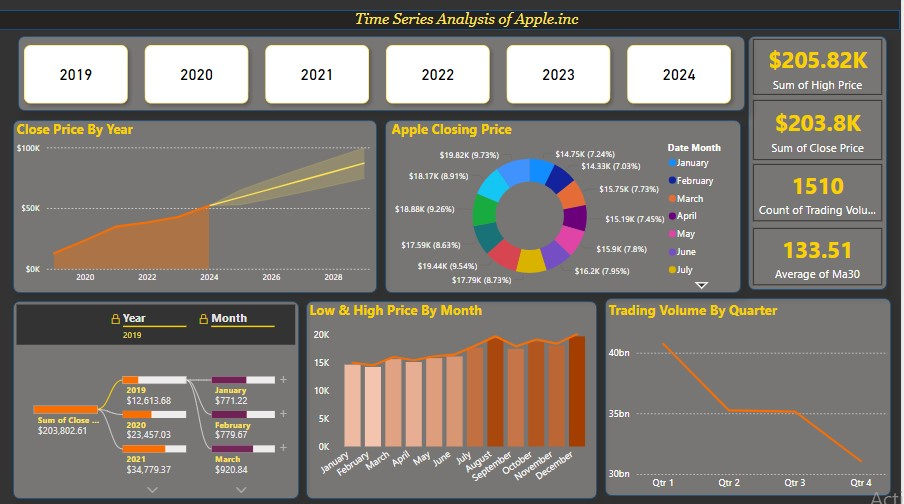

The page's visual inventory and layout, read from the dashboard file:
{"tool":"powerbi","page":{"name":"Page 1","canvas":[1280,720],"ordinal":0},"visuals":[{"type":"shape","box":[861.7,426.6,405.4,280.6],"z":0},{"type":"shape","box":[438,430.9,412.4,280.6],"z":1000},{"type":"shape","box":[22.7,430.9,405.4,280.6],"z":2000},{"type":"shape","box":[1064.4,55.3,197,360],"z":3000},{"type":"shape","box":[549.9,174.3,504.6,245.2],"z":4000},{"type":"shape","box":[22.7,174.3,515.9,245.2],"z":5000},{"type":"shape","box":[29.8,55.3,1030.4,106.3],"z":6000},{"type":"shape","box":[0,18.4,1279.8,28.3],"z":7000},{"type":"advancedSlicerVisual","fields":{"Values":["AAPL.Date.Variation.Date Hierarchy.Year"]},"box":[21.3,51,1038.9,117.6],"z":8000},{"type":"donutChart","title":"Apple Closing Price","fields":{"Category":["AAPL.Date.Variation.Date Hierarchy.Month"],"Y":["Sum(AAPL.Close Price)"]},"box":[554.2,174.3,494.6,246.6],"z":9000},{"type":"lineChart","title":"Trading Volume By Quarter","fields":{"Category":["AAPL.Date.Variation.Date Hierarchy.Quarter"],"Y":["Sum(AAPL.Trading Volume)"]},"box":[861.7,430.9,405.4,276.4],"z":10000},{"type":"lineStackedColumnComboChart","title":" Low & High Price By Month","fields":{"Y":["Sum(AAPL.Low Price)"],"Y2":["Sum(AAPL.High Price)"],"Category":["AAPL.Date.Variation.Date Hierarchy.Month"]},"box":[438,430.9,412.4,279.2],"z":11000},{"type":"lineChart","title":"Close Price By Year","fields":{"Category":["AAPL.Date.Variation.Date Hierarchy.Year","AAPL.Date.Variation.Date Hierarchy.Quarter","AAPL.Date.Variation.Date Hierarchy.Month","AAPL.Date.Variation.Date Hierarchy.Day"],"Y":["Sum(AAPL.Close Price)"]},"box":[22.7,174.3,515.9,240.9],"z":12000},{"type":"card","fields":{"Values":["Sum(AAPL.Close Price)"]},"box":[1071.5,145.3,182.8,85],"z":13000},{"type":"card","fields":{"Values":["Sum(AAPL.High Price)"]},"box":[1071.5,59.5,182.8,79.4],"z":14000},{"type":"card","fields":{"Values":["CountNonNull(AAPL.Trading Volume)"]},"box":[1071.5,236.7,182.8,80.8],"z":15000},{"type":"decompositionTreeVisual","title":"Hirearchy Tree ","fields":{"Analyze":["Sum(AAPL.Close Price)"],"ExplainBy":["AAPL.Date.Variation.Date Hierarchy.Year","AAPL.Date.Variation.Date Hierarchy.Month","AAPL.Date.Variation.Date Hierarchy.Day","AAPL.Date.Variation.Date Hierarchy.Quarter"]},"box":[22.7,430.9,405.4,280.6],"z":16000},{"type":"card","fields":{"Values":["Avg(AAPL.Ma30)"]},"box":[1071.5,327.4,182.8,80.8],"z":17000},{"type":"textbox","box":[469.1,12.8,392.6,39.7],"z":18000}]}

Visuals, with their boxes in screenshot pixels (x1, y1, x2, y2):
shape: x1=609 y1=305 x2=899 y2=503
shape: x1=306 y1=308 x2=601 y2=503
shape: x1=9 y1=308 x2=299 y2=503
shape: x1=754 y1=40 x2=895 y2=297
shape: x1=386 y1=125 x2=747 y2=300
shape: x1=9 y1=125 x2=378 y2=300
shape: x1=14 y1=40 x2=751 y2=116
shape: x1=0 y1=13 x2=903 y2=33
advancedSlicerVisual - AAPL.Date.Variation.Date Hierarchy.Year: x1=8 y1=36 x2=751 y2=121
"Apple Closing Price" donutChart: x1=389 y1=125 x2=743 y2=301
"Trading Volume By Quarter" lineChart: x1=609 y1=308 x2=899 y2=503
" Low & High Price By Month" lineStackedColumnComboChart: x1=306 y1=308 x2=601 y2=503
"Close Price By Year" lineChart: x1=9 y1=125 x2=378 y2=297
card - Sum(AAPL.Close Price): x1=759 y1=104 x2=890 y2=165
card - Sum(AAPL.High Price): x1=759 y1=43 x2=890 y2=99
card - CountNonNull(AAPL.Trading Volume): x1=759 y1=169 x2=890 y2=227
"Hirearchy Tree " decompositionTreeVisual: x1=9 y1=308 x2=299 y2=503
card - Avg(AAPL.Ma30): x1=759 y1=234 x2=890 y2=292
textbox: x1=329 y1=9 x2=609 y2=38
